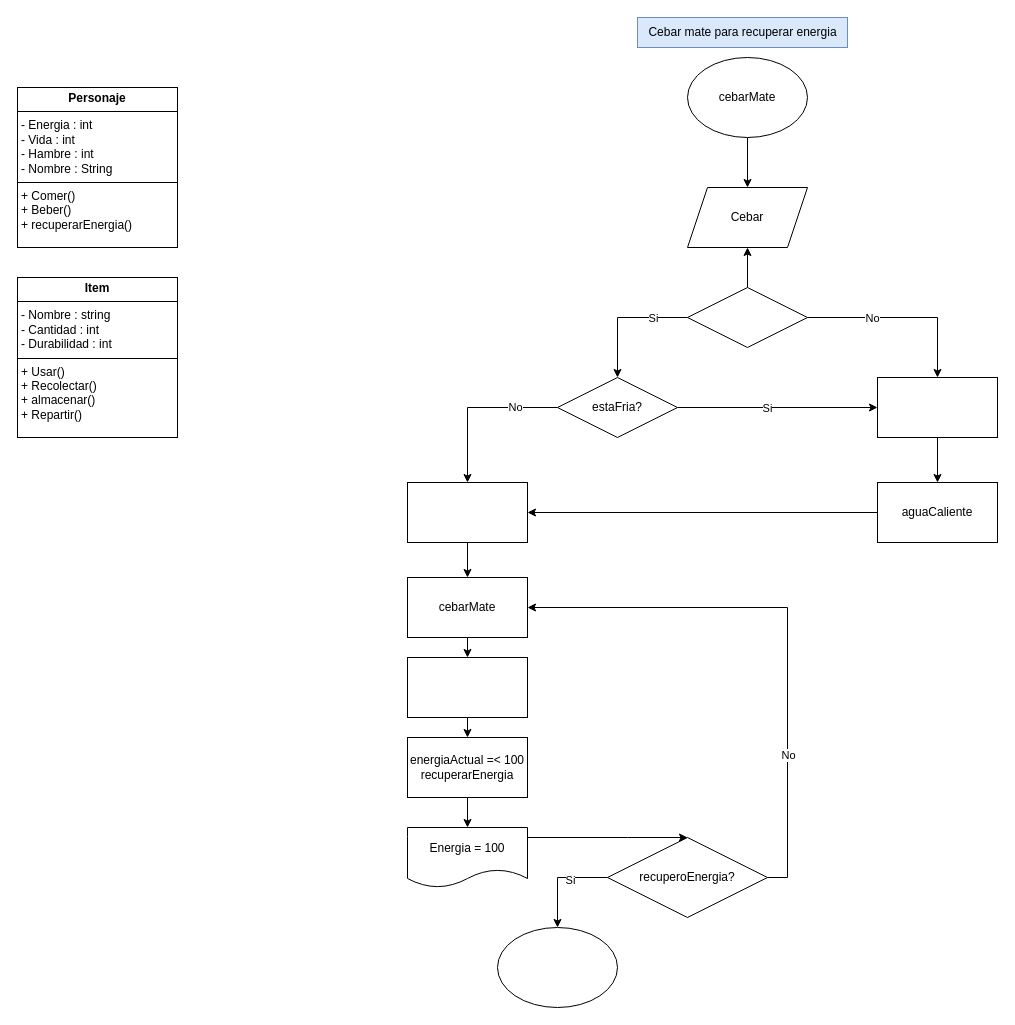
Some shapes in this 1015 by 1025 pixel diagram are drawn without their labels. Here are the shapes that lost their labels. From the top down, the centre of each, then its label:
pixel 747 317: hayAgua?
pixel 937 407: calentarAgua
pixel 467 512: llenarTermo
pixel 467 687: tomarMate
pixel 557 967: Fin
